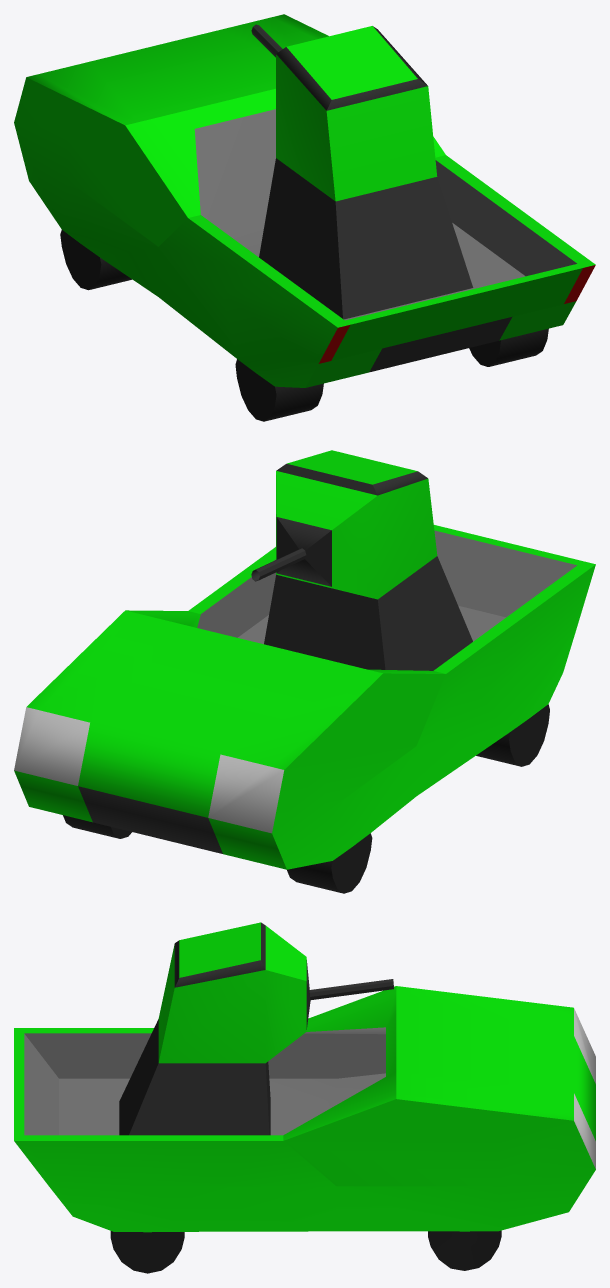
The model's file is WarLightGreen.fbx.
3 renders of one model, top to bottom at view 1: azimuth 30°, elevation 25°; view 2: azimuth 150°, elevation 25°; view 3: azimuth 270°, elevation 25°, orthographic. The views are drawn at different scales.
Visible parts, largest first — view 1: pCylinder6; view 2: pCylinder6; view 3: pCylinder6.
Boxes of the visible parts, x1=… form: pCylinder6: x1=14, y1=14, x2=595, y2=421; pCylinder6: x1=14, y1=450, x2=595, y2=893; pCylinder6: x1=14, y1=922, x2=595, y2=1273.
Size of the model in its own units: 2.1 by 2.23 by 4.31.
